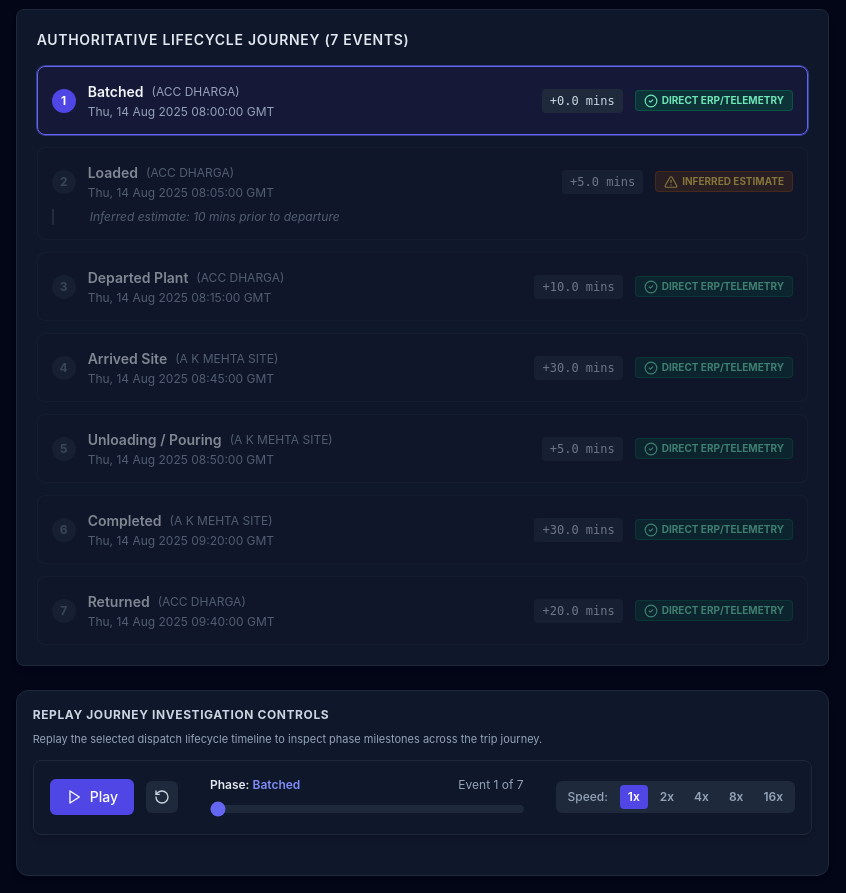
Test: WS-08.4 Remediation Dedicated Suite › restarts playback from step 0 if user clicks Play when already at final step
(page scrolled)
Expected: the button with aria-label "Play Timeline" is shown, [50, 779, 134, 815]
// Fast-forward step to final step (6)
Set the slider to "6": (516, 808) [210, 804, 524, 812]
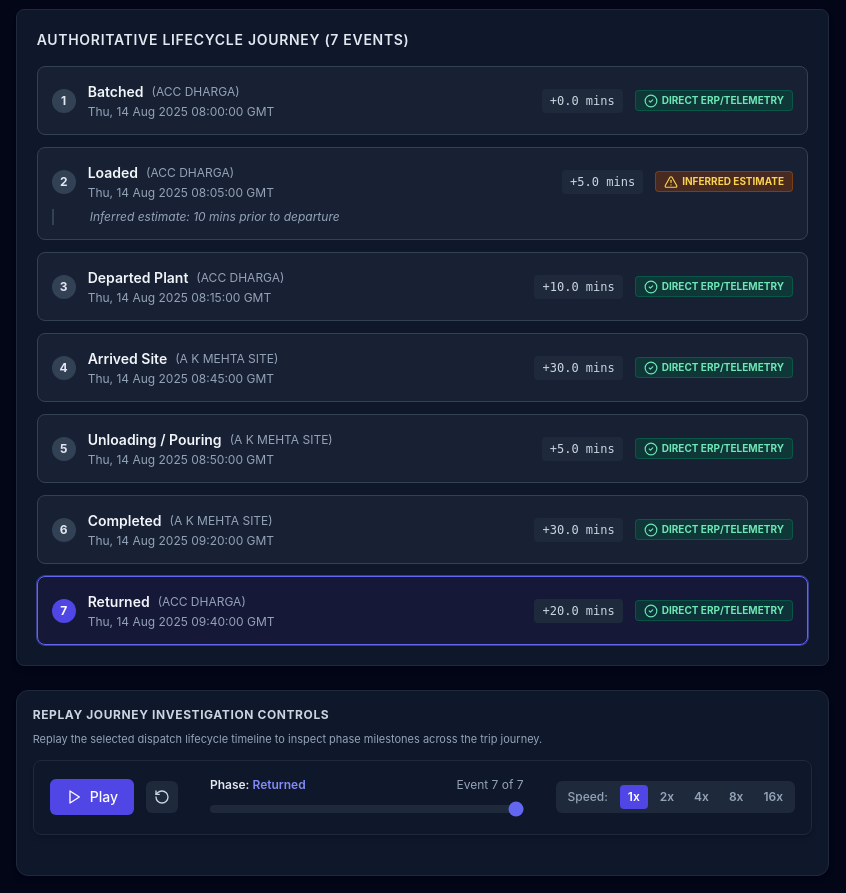
// Click play at end
Click the button with aria-label "Play Timeline": (92, 797) [50, 779, 134, 815]
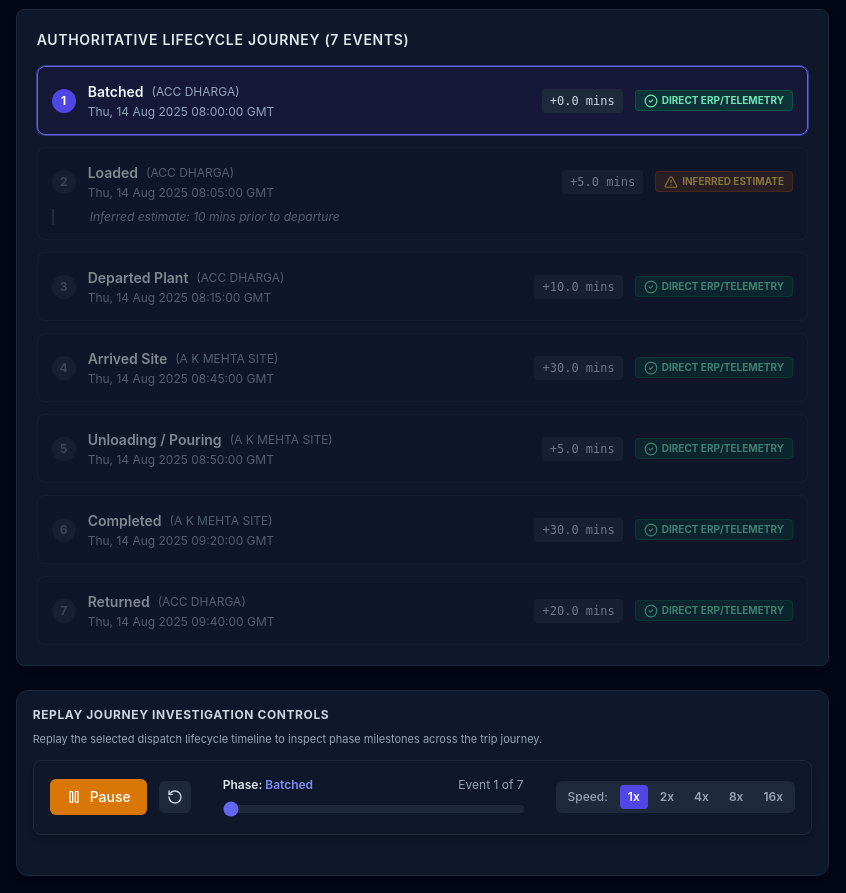
Expected: the button with aria-label "Pause Playback" is shown, [50, 779, 147, 815]
